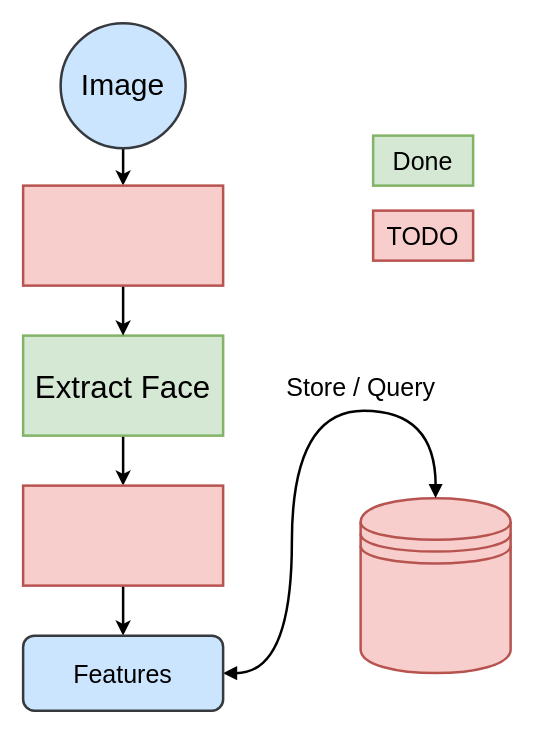
This 533x733 diagram has some shape labels left out. The centre of each missing label's shape, as x and y in pixels:
Detect Face: (122,235)
Extract Features: (122,535)
Facial Feature Dataset: (435,585)
